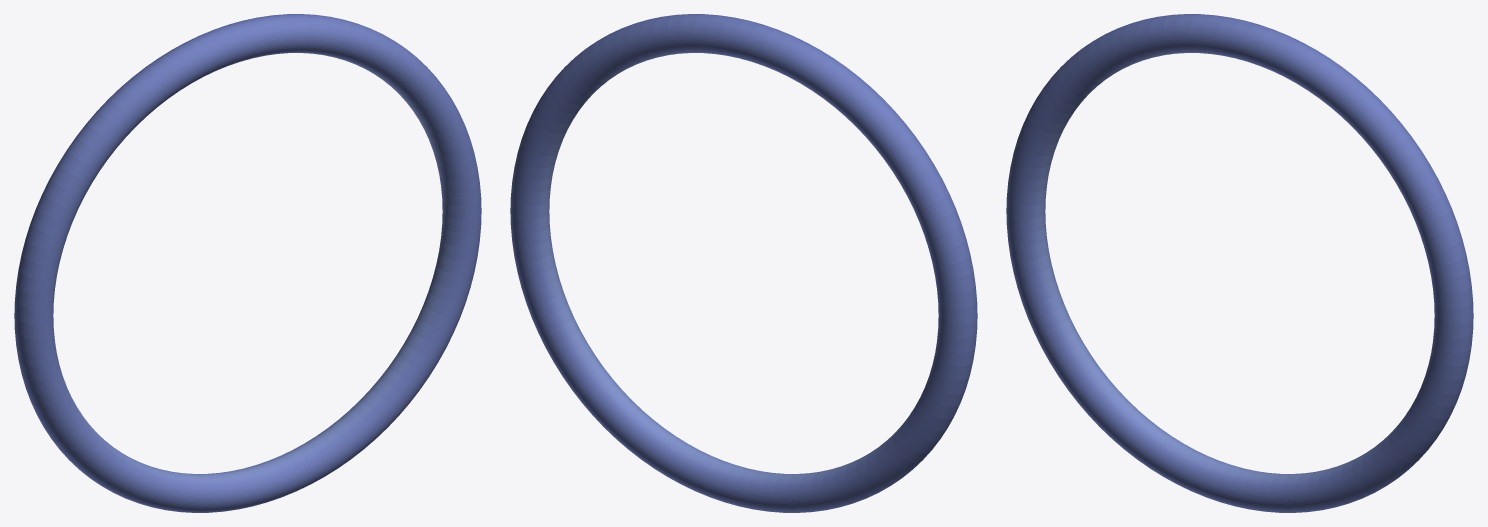
3 renders of one model, left to right at view 1: azimuth 30°, elevation 25°; view 2: azimuth 150°, elevation 25°; view 3: azimuth 330°, elevation 25°, orthographic.
Parts seen in each view (by area): view 1: world; view 2: world; view 3: world.
Part boxes in pixels (left/top/right/bottom): world: left=14, top=14, right=481, bottom=512; world: left=510, top=14, right=977, bottom=512; world: left=1006, top=14, right=1473, bottom=512.
Size of the model in its own units: 27.33 by 27.33 by 2.
